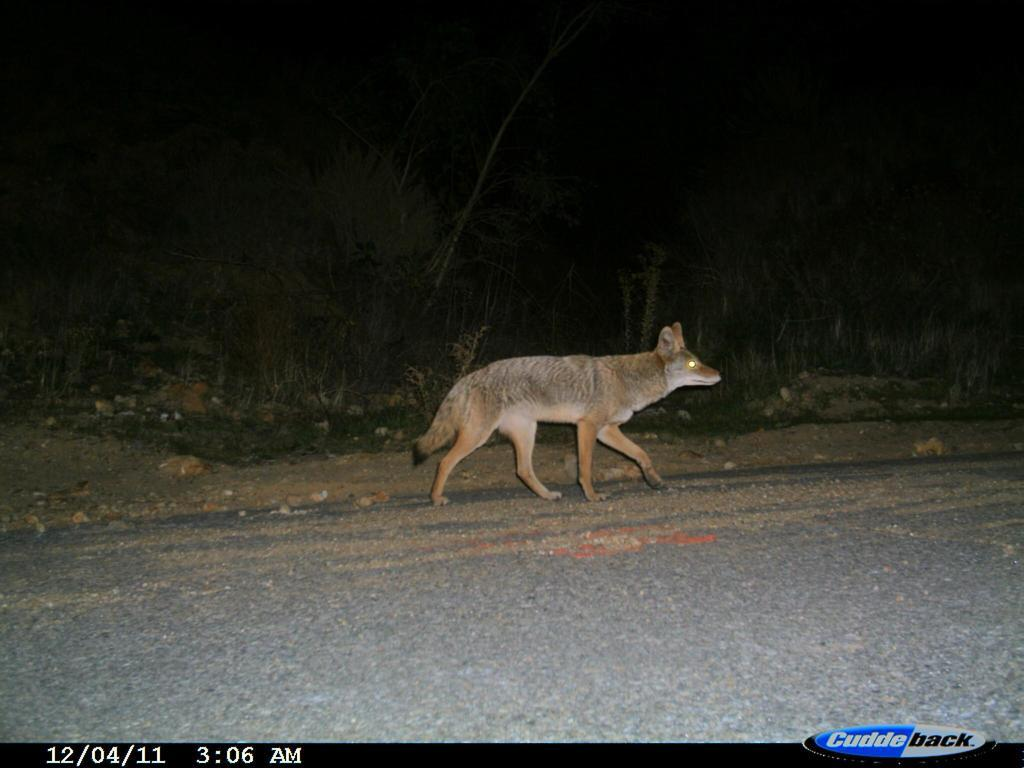coyote: (399, 313, 725, 507)
